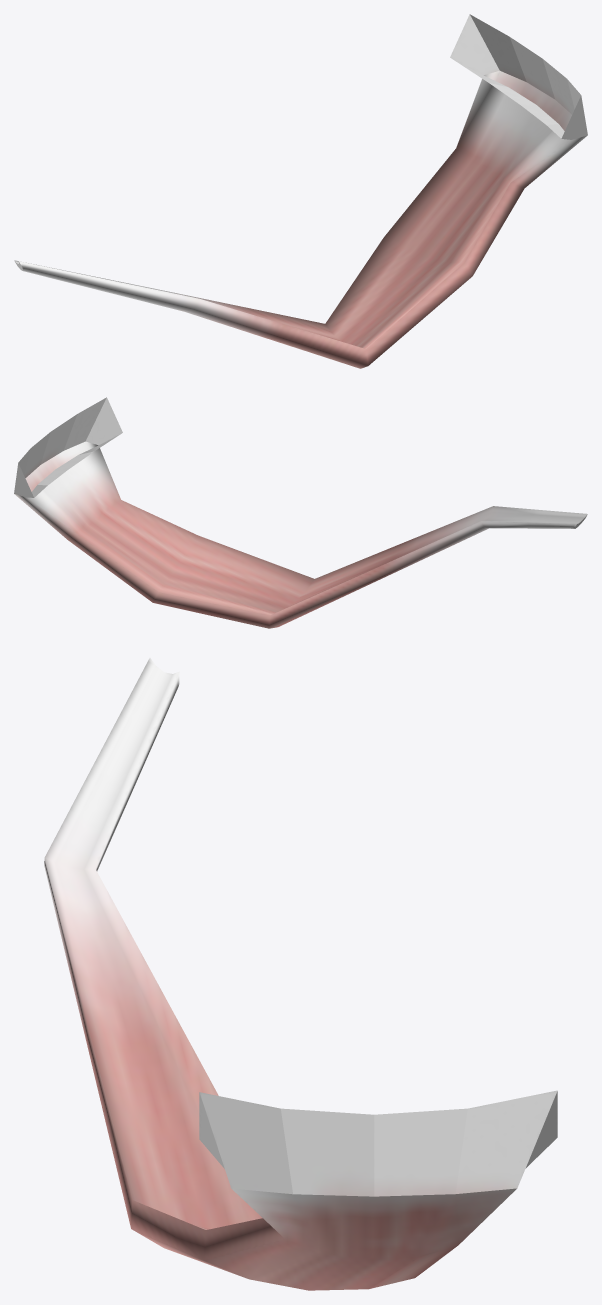
Rendered from Músculo Inferior Oblicuo.FBX.
3 renders of one model, top to bottom at view 1: azimuth 30°, elevation 25°; view 2: azimuth 150°, elevation 25°; view 3: azimuth 270°, elevation 25°, orthographic. The views are drawn at different scales.
Parts seen in each view (by area): view 1: Sclera Left; view 2: Sclera Left; view 3: Sclera Left.
Boxes of the visible parts, left/top/right/bottom form: Sclera Left: left=14, top=14, right=587, bottom=368; Sclera Left: left=14, top=397, right=587, bottom=628; Sclera Left: left=44, top=658, right=557, bottom=1290.
Size of the model in its own units: 1.03 by 0.3531 by 0.4676.
Materials: 1 (1 with a texture image).
